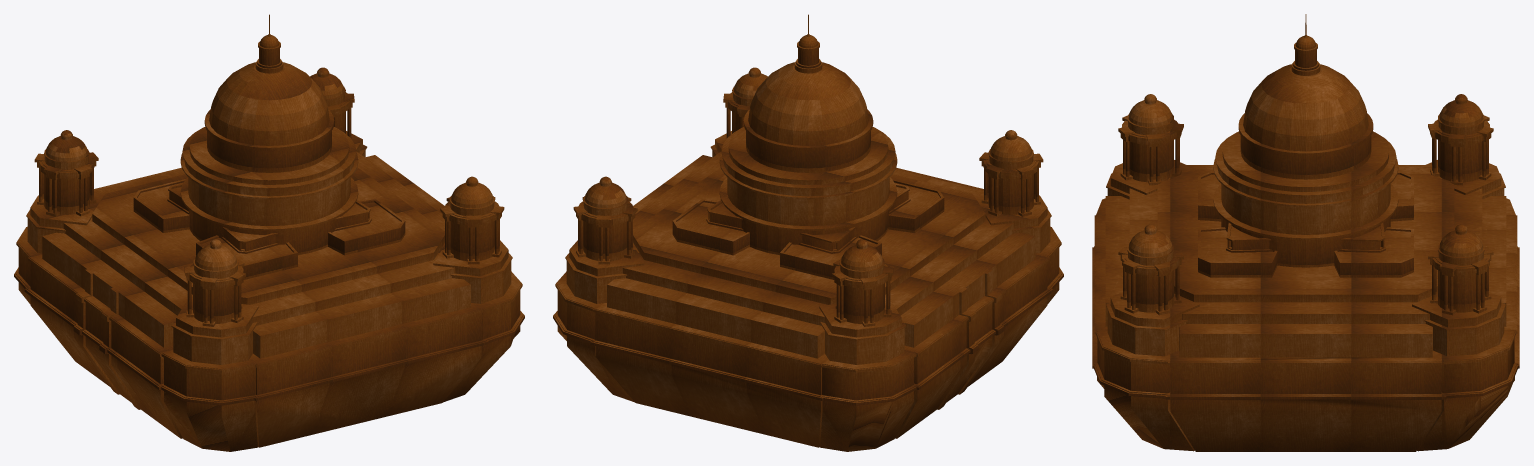
The model's file is citadel.fbx.
3 views of the same model, side by side, from view 1: azimuth 30°, elevation 25°; view 2: azimuth 150°, elevation 25°; view 3: azimuth 270°, elevation 25° (orthographic). The views are drawn at different scales.
Visible parts, largest first — view 1: HQ; view 2: HQ; view 3: HQ.
Part boxes in pixels (x1,y1,x2,y2): HQ: (14, 14, 524, 451); HQ: (553, 14, 1063, 451); HQ: (1092, 14, 1519, 451).
Size of the model in its own units: 950 by 892 by 944.
Materials: 1 (1 with a texture image).
